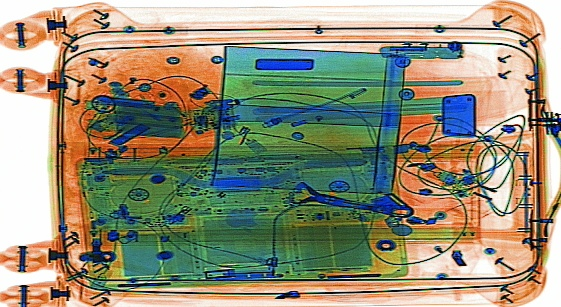powerbank: (79, 93, 189, 144)
